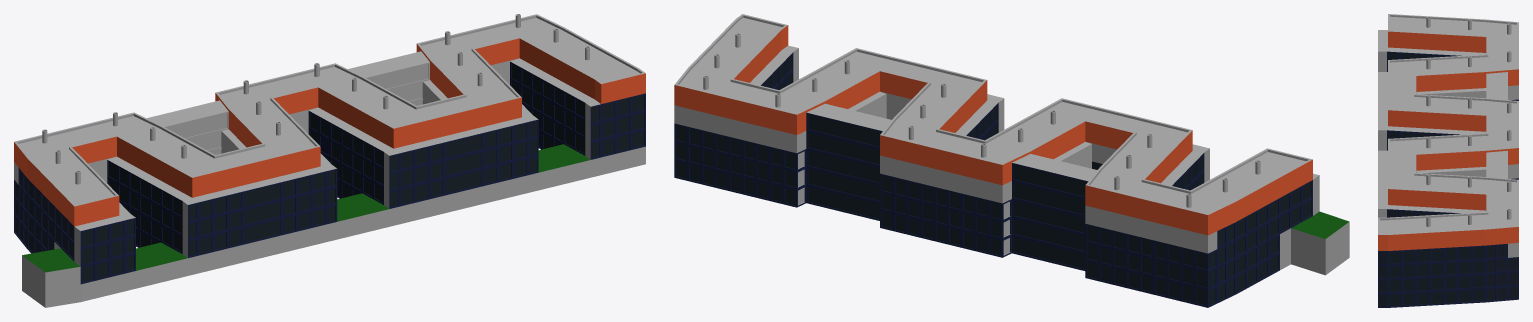
Rendered from Feringa.fbx.
3 renders of one model, left to right at view 1: azimuth 30°, elevation 25°; view 2: azimuth 150°, elevation 25°; view 3: azimuth 270°, elevation 25°, orthographic. The views are drawn at different scales.
Parts seen in each view (by area): view 1: Box005; view 2: Box005; view 3: Box005.
Boxes of the visible parts, x1,y1,x2,y2 form: Box005: (14, 14, 645, 307); Box005: (674, 14, 1349, 307); Box005: (1378, 14, 1518, 307).
Bounding box in the file's own units: 333 × 53.54 × 84.82.
